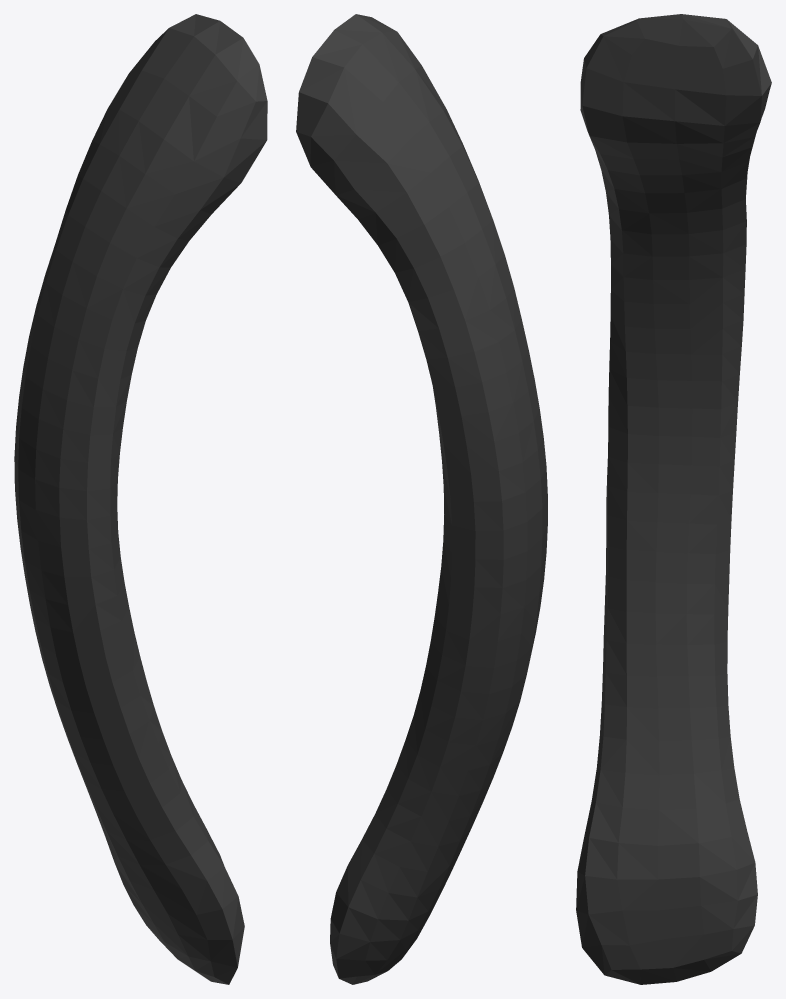
File: Coll_med_lig.glb
3 renders of one model, left to right at view 1: azimuth 30°, elevation 25°; view 2: azimuth 150°, elevation 25°; view 3: azimuth 270°, elevation 25°, orthographic. The views are drawn at different scales.
Parts seen in each view (by area): view 1: Coll_med_lig; view 2: Coll_med_lig; view 3: Coll_med_lig.
Part boxes in pixels (left/top/right/bottom): Coll_med_lig: left=14, top=14, right=267, bottom=984; Coll_med_lig: left=296, top=14, right=547, bottom=984; Coll_med_lig: left=576, top=14, right=771, bottom=984.
Size of the model in its own units: 0.2077 by 0.9304 by 0.1684.
1 material, 1 textured.
